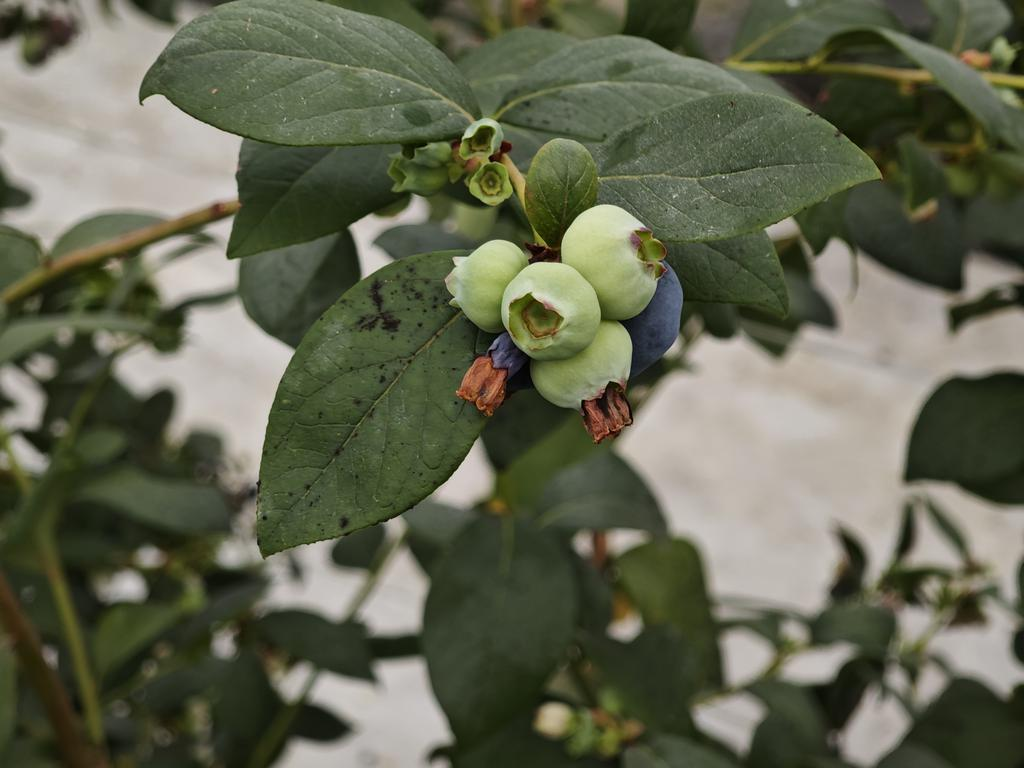UnripeBlueBerry: (561, 202, 670, 325), (498, 259, 603, 362)
